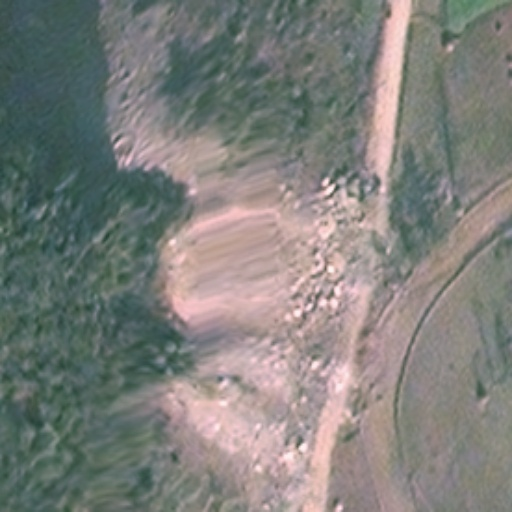landslide: (150, 155, 370, 472)
